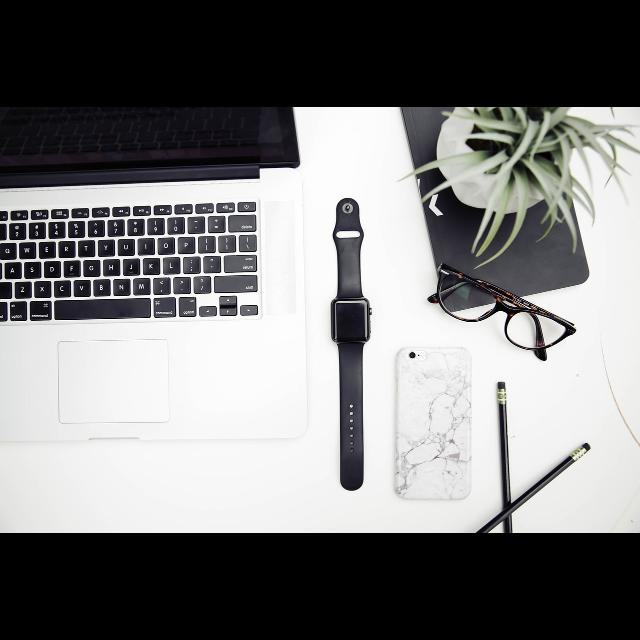glasses: (426, 261, 578, 363)
